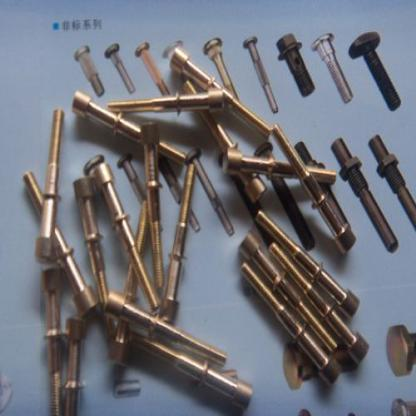FOD: (272, 122, 357, 254), (102, 292, 229, 364), (32, 105, 66, 267), (348, 29, 402, 114), (311, 30, 354, 105), (242, 34, 280, 116), (274, 29, 317, 99), (73, 42, 107, 97), (104, 41, 136, 95)
